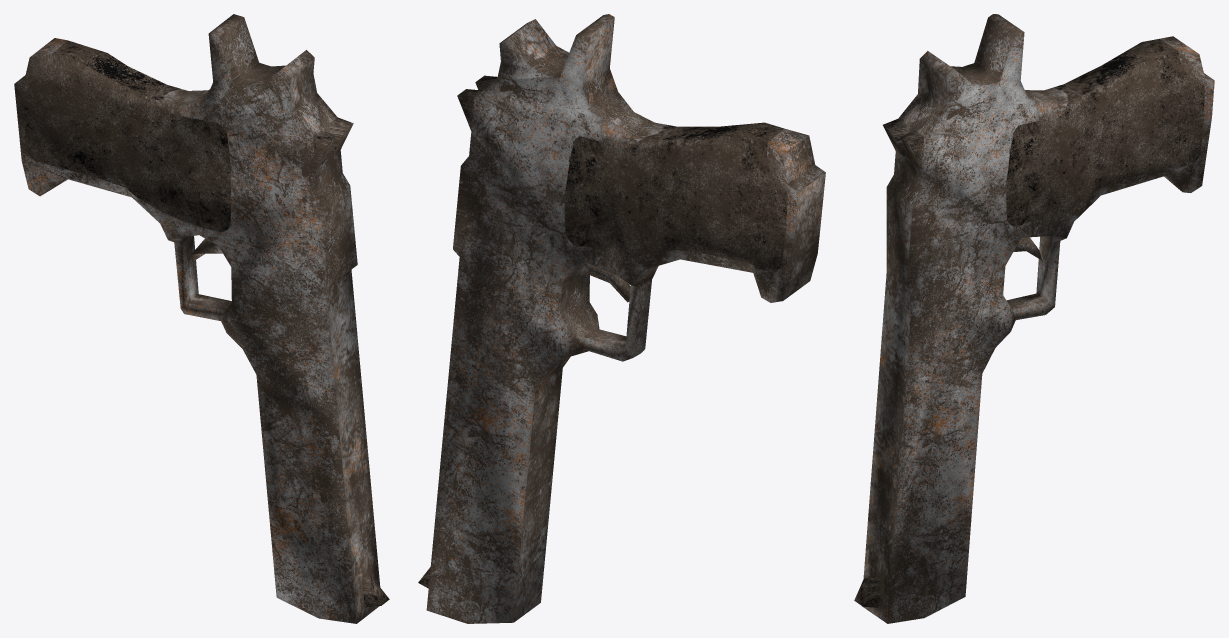
The model's file is Anim_idle_pistola_objetos.0018.obj.
3 renders of one model, left to right at view 1: azimuth 30°, elevation 25°; view 2: azimuth 210°, elevation 25°; view 3: azimuth 270°, elevation 25°, orthographic. The views are drawn at different scales.
Parts seen in each view (by area): view 1: Pistola1; view 2: Pistola1; view 3: Pistola1.
Part boxes in pixels (<box>): Pistola1: <box>14,14,389,623</box>; Pistola1: <box>418,14,825,623</box>; Pistola1: <box>854,14,1214,623</box>.
Bounding box in the file's own units: 0.6742 × 1.69 × 0.986.
